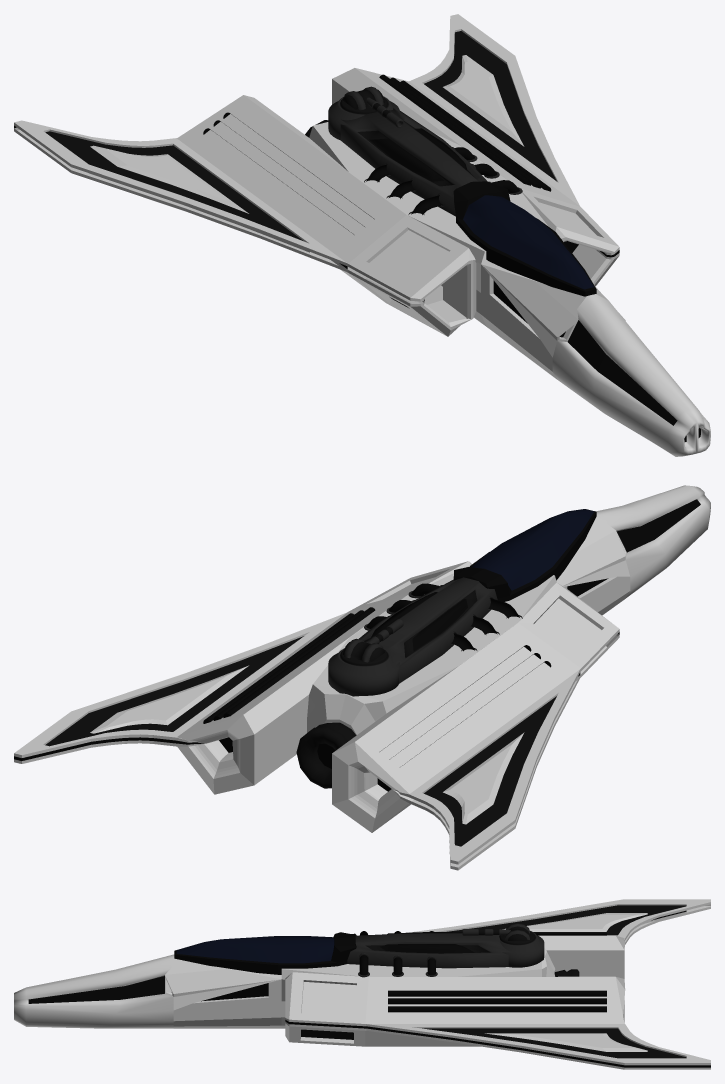
File: SpaceShip-Fighter.obj
3 renders of one model, top to bottom at view 1: azimuth 30°, elevation 25°; view 2: azimuth 150°, elevation 25°; view 3: azimuth 270°, elevation 25°, orthographic. The views are drawn at different scales.
Parts seen in each view (by area): view 1: Spaceship_Lf_Cube.001; view 2: Spaceship_Lf_Cube.001; view 3: Spaceship_Lf_Cube.001.
Part boxes in pixels (x1=…): Spaceship_Lf_Cube.001: x1=14, y1=14, x2=710, y2=456; Spaceship_Lf_Cube.001: x1=14, y1=485, x2=710, y2=870; Spaceship_Lf_Cube.001: x1=14, y1=899, x2=710, y2=1069.
Bounding box in the file's own units: 11.45 × 3.11 × 20.57.
